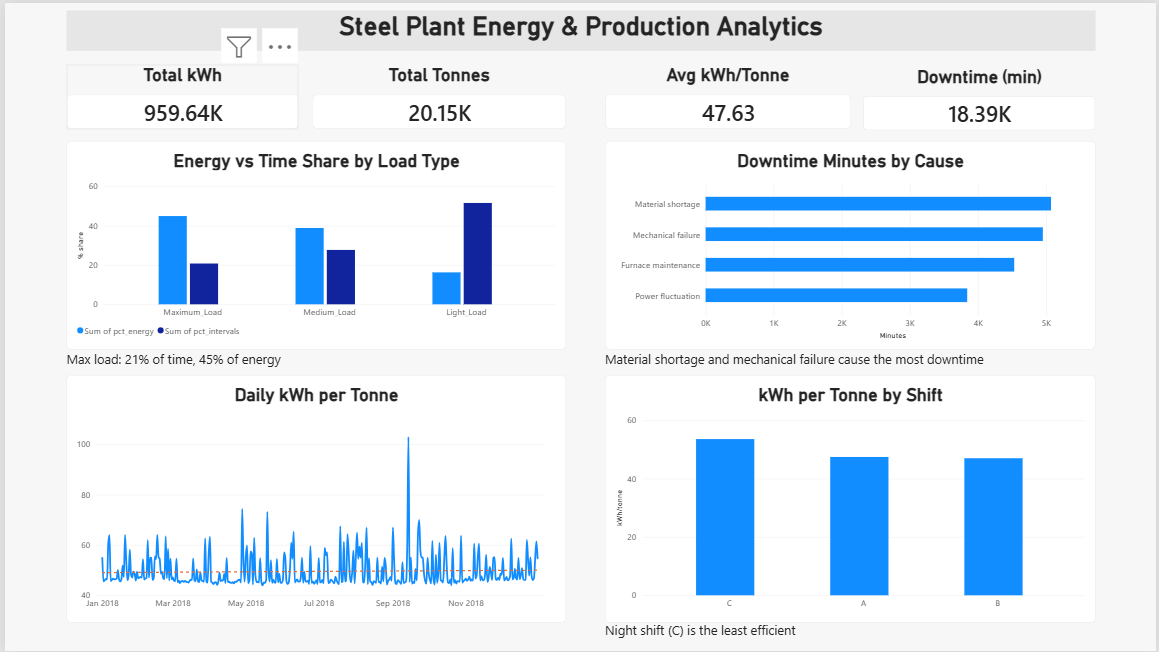

The page's visual inventory and layout, read from the dashboard file:
{"tool":"powerbi","page":{"name":"Page 1","canvas":[1920,1080],"ordinal":0},"visuals":[{"type":"clusteredColumnChart","title":"Energy vs Time Share by Load Type","fields":{"Category":["gold_load_type_summary.load_type"],"Y":["Sum(gold_load_type_summary.pct_energy)","Sum(gold_load_type_summary.pct_intervals)"]},"box":[102.5,230,832.5,347.5],"z":0},{"type":"lineChart","title":"Daily kWh per Tonne","fields":{"Category":["gold_daily_kpis.date"],"Y":["Sum(gold_daily_kpis.kwh_per_tonne)"]},"box":[102.5,620,832.5,412.5],"z":1000},{"type":"clusteredBarChart","title":"Downtime Minutes by Cause","fields":{"Category":["gold_downtime_pareto.downtime_reason"],"Y":["Sum(gold_downtime_pareto.downtime_minutes)"]},"box":[1000,230,817.5,347.5],"z":2000},{"type":"clusteredColumnChart","title":"kWh per Tonne by Shift","fields":{"Category":["gold_shift_summary.shift"],"Y":["Sum(gold_shift_summary.kwh_per_tonne)"]},"box":[1000,620,817.5,412.5],"z":3000},{"type":"textbox","box":[102.5,12.5,1715,67.5],"z":5000},{"type":"cardVisual","title":"Total kWh","fields":{"Data":["Sum(gold_daily_kpis.total_kwh)"]},"box":[102.5,102.5,387.5,107.5],"z":5001},{"type":"cardVisual","title":"Total Tonnes","fields":{"Data":["Sum(gold_daily_kpis.total_tonnes)"]},"box":[512.5,102.5,422.5,107.5],"z":5002},{"type":"cardVisual","title":"Avg kWh/Tonne","fields":{"Data":["gold_daily_kpis.KWh per Tonne"]},"box":[1000,102.5,410,107.5],"z":5003},{"type":"cardVisual","title":"Downtime (min)","fields":{"Data":["Sum(gold_daily_kpis.downtime_minutes)"]},"box":[1430,105,387.5,107.5],"z":5004},{"type":"textbox","box":[102.5,577.5,387.5,42.5],"z":5005},{"type":"textbox","box":[1000,577.5,775,150],"z":5006},{"type":"textbox","box":[1000,1030,387.5,50],"z":5007}]}

Visuals, with their boxes in screenshot pixels (x1, y1, x2, y2), scaled from the page's 1920x1080 canvas onto the 1159x652 screenshot:
"Energy vs Time Share by Load Type" clusteredColumnChart: box=[62, 139, 564, 349]
"Daily kWh per Tonne" lineChart: box=[62, 374, 564, 623]
"Downtime Minutes by Cause" clusteredBarChart: box=[604, 139, 1097, 349]
"kWh per Tonne by Shift" clusteredColumnChart: box=[604, 374, 1097, 623]
textbox: box=[62, 8, 1097, 48]
"Total kWh" cardVisual: box=[62, 62, 296, 127]
"Total Tonnes" cardVisual: box=[309, 62, 564, 127]
"Avg kWh/Tonne" cardVisual: box=[604, 62, 851, 127]
"Downtime (min)" cardVisual: box=[863, 63, 1097, 128]
textbox: box=[62, 349, 296, 374]
textbox: box=[604, 349, 1071, 439]
textbox: box=[604, 622, 838, 651]
